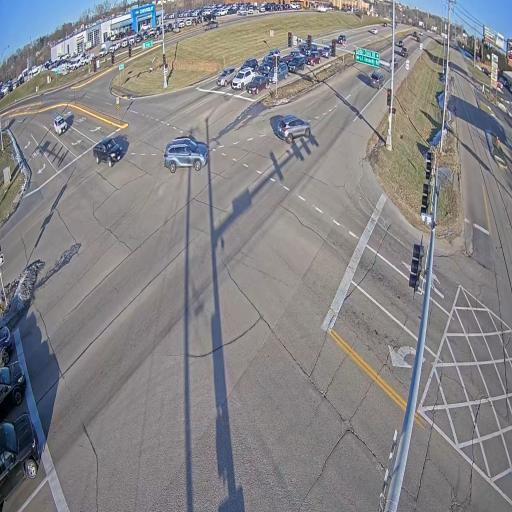pickup: (93, 138, 121, 166), (258, 56, 275, 75), (401, 47, 407, 56)
sedan: (246, 75, 269, 94), (383, 22, 387, 27)
suv: (0, 414, 41, 512), (165, 137, 209, 173), (0, 360, 27, 417), (277, 115, 310, 144), (231, 67, 255, 90), (0, 326, 13, 366), (216, 66, 236, 86), (288, 55, 306, 73), (54, 115, 67, 136), (241, 57, 258, 73), (370, 71, 384, 89), (306, 51, 320, 66), (286, 50, 300, 64), (268, 49, 280, 59), (321, 46, 330, 58), (338, 34, 346, 43), (371, 27, 378, 34), (398, 40, 403, 47), (413, 31, 417, 38), (419, 31, 423, 36), (417, 37, 420, 42)
van: (268, 62, 288, 83)
